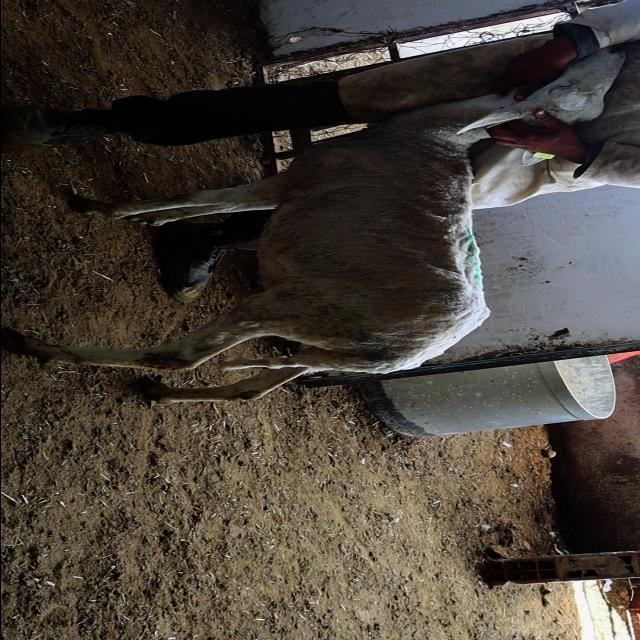Score_1: (5, 53, 623, 404)
